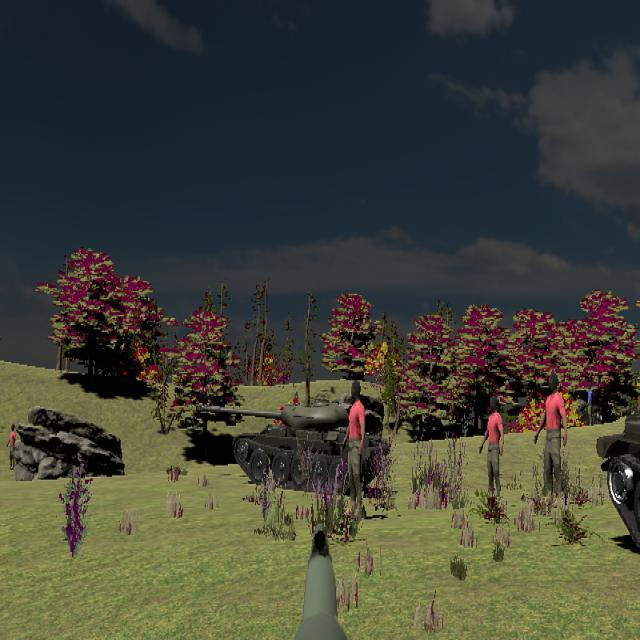Human: (535, 372, 568, 508), (341, 384, 366, 520), (480, 394, 504, 511), (6, 423, 17, 471)
Tank: (199, 400, 389, 493), (596, 374, 640, 569)
